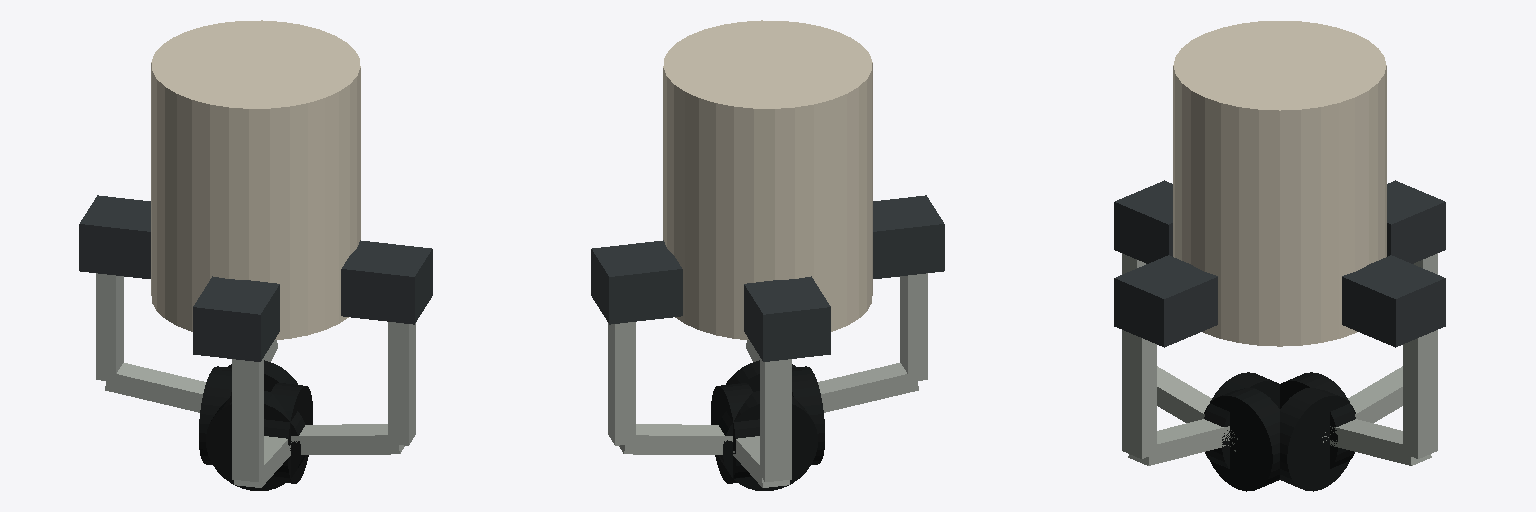
robot.urdf — mist_v2_engineering_candidate:
<?xml version='1.0' encoding='utf-8'?>
<robot name="mist_v2_engineering_candidate">
  <link name="base_link">
    <inertial>
      <origin xyz="0.00332334254 1.464693721e-06 0.03320864763" />
      <mass value="2.497144615750418" />
      <inertia ixx="0.01148689627851007" iyy="0.012851937057630578" izz="0.009283857166790676" ixy="0" ixz="0" iyz="0" />
    </inertial>
    <visual>
      <origin xyz="0 0 0.075" rpy="0 0 0" />
      <geometry>
        <cylinder radius="0.09" length="0.22" />
      </geometry>
      <material name="base_link_material">
        <color rgba="0.83 0.8 0.73 1" />
      </material>
    </visual>
    <collision>
      <origin xyz="0 0 0.075" rpy="0 0 0" />
      <geometry>
        <cylinder radius="0.09" length="0.22" />
      </geometry>
    </collision>
  </link>
  <link name="FL_yaw">
    <inertial>
      <origin xyz="0.0175 0.015 0" />
      <mass value="0.37685924208629096" />
      <inertia ixx="0.0001766527697279489" iyy="0.00019628085525327655" izz="0.00024574363077710224" ixy="0" ixz="0" iyz="0" />
    </inertial>
    <visual>
      <origin xyz="0.0175 0.015 0" rpy="0 0 0" />
      <geometry>
        <box size="0.065 0.06 0.045" />
      </geometry>
      <material name="FL_yaw_material">
        <color rgba="0.25 0.27 0.28 1" />
      </material>
    </visual>
    <collision>
      <origin xyz="0.0175 0.015 0" rpy="0 0 0" />
      <geometry>
        <box size="0.065 0.06 0.045" />
      </geometry>
    </collision>
  </link>
  <joint name="FL_q1_yaw" type="revolute">
    <parent link="base_link" />
    <child link="FL_yaw" />
    <origin xyz="0.07283199846 0.07283199846 0" rpy="0 0 0.7853981634" />
    <axis xyz="0 0 1" />
    <limit lower="-1.7453292519943295" upper="1.7453292519943295" effort="20" velocity="20" />
    <dynamics damping="0" friction="0" />
  </joint>
  <link name="FL_femur">
    <inertial>
      <origin xyz="0 0 -0.06252680735" />
      <mass value="0.2265272545917623" />
      <inertia ixx="0.00033824735222211813" iyy="0.00033183373900069117" izz="2.128216988604884e-05" ixy="0" ixz="0" iyz="0" />
    </inertial>
    <visual>
      <origin xyz="0 0 -0.06975" rpy="0 0 0" />
      <geometry>
        <box size="0.018 0.024 0.1395" />
      </geometry>
      <material name="FL_femur_material">
        <color rgba="0.68 0.7 0.67 1" />
      </material>
    </visual>
    <collision>
      <origin xyz="0 0 -0.06975" rpy="0 0 0" />
      <geometry>
        <box size="0.018 0.024 0.1395" />
      </geometry>
    </collision>
  </link>
  <joint name="FL_q2_hip" type="revolute">
    <parent link="FL_yaw" />
    <child link="FL_femur" />
    <origin xyz="0.035 0.03 0" rpy="0 0 0" />
    <axis xyz="0 -1 0" />
    <limit lower="-0.6981317007977318" upper="2.181661564992912" effort="20" velocity="20" />
    <dynamics damping="0" friction="0" />
  </joint>
  <link name="FL_tibia">
    <inertial>
      <origin xyz="0 0 -0.09551791951" />
      <mass value="0.27304913299150024" />
      <inertia ixx="0.0003976505540132882" iyy="0.00039191652222046676" izz="2.0478684974362515e-05" ixy="0" ixz="0" iyz="0" />
    </inertial>
    <visual>
      <origin xyz="0 0 -0.065" rpy="0 0 0" />
      <geometry>
        <box size="0.018 0.024 0.13" />
      </geometry>
      <material name="FL_tibia_material">
        <color rgba="0.68 0.7 0.67 1" />
      </material>
    </visual>
    <collision>
      <origin xyz="0 0 -0.065" rpy="0 0 0" />
      <geometry>
        <box size="0.018 0.024 0.13" />
      </geometry>
    </collision>
  </link>
  <joint name="FL_q3_knee" type="revolute">
    <parent link="FL_femur" />
    <child link="FL_tibia" />
    <origin xyz="0 0 -0.1395" rpy="0 0 0" />
    <axis xyz="0 -1 0" />
    <limit lower="-2.6179938779914944" upper="-0.2617993877991494" effort="20" velocity="20" />
    <dynamics damping="0" friction="0" />
  </joint>
  <link name="FL_wheel">
    <inertial>
      <origin xyz="0 0 0" />
      <mass value="0.08454368068314383" />
      <inertia ixx="4.223485248127304e-05" iyy="7.635351161696428e-05" izz="4.223485248127304e-05" ixy="0" ixz="0" iyz="0" />
    </inertial>
    <visual>
      <origin xyz="0 0 0" rpy="1.570796327 0 0" />
      <geometry>
        <cylinder radius="0.0425" length="0.024" />
      </geometry>
      <material name="FL_wheel_material">
        <color rgba="0.12 0.13 0.13 1" />
      </material>
    </visual>
    <collision>
      <origin xyz="0 0 0" rpy="1.570796327 0 0" />
      <geometry>
        <cylinder radius="0.0425" length="0.024" />
      </geometry>
    </collision>
  </link>
  <joint name="FL_wheel_drive" type="continuous">
    <parent link="FL_tibia" />
    <child link="FL_wheel" />
    <origin xyz="0 0 -0.13" rpy="0 0 0" />
    <axis xyz="0 -1 0" />
    <dynamics damping="0" friction="0" />
  </joint>
  <link name="FR_yaw">
    <inertial>
      <origin xyz="0.0175 -0.015 0" />
      <mass value="0.37685924208629096" />
      <inertia ixx="0.0001766527697279489" iyy="0.00019628085525327655" izz="0.00024574363077710224" ixy="0" ixz="0" iyz="0" />
    </inertial>
    <visual>
      <origin xyz="0.0175 -0.015 0" rpy="0 0 0" />
      <geometry>
        <box size="0.065 0.06 0.045" />
      </geometry>
      <material name="FR_yaw_material">
        <color rgba="0.25 0.27 0.28 1" />
      </material>
    </visual>
    <collision>
      <origin xyz="0.0175 -0.015 0" rpy="0 0 0" />
      <geometry>
        <box size="0.065 0.06 0.045" />
      </geometry>
    </collision>
  </link>
  <joint name="FR_q1_yaw" type="revolute">
    <parent link="base_link" />
    <child link="FR_yaw" />
    <origin xyz="0.07283199846 -0.07283199846 0" rpy="0 0 -0.7853981634" />
    <axis xyz="0 0 1" />
    <limit lower="-1.7453292519943295" upper="1.7453292519943295" effort="20" velocity="20" />
    <dynamics damping="0" friction="0" />
  </joint>
  <link name="FR_femur">
    <inertial>
      <origin xyz="0 0 -0.06252680735" />
      <mass value="0.2265272545917623" />
      <inertia ixx="0.00033824735222211813" iyy="0.00033183373900069117" izz="2.128216988604884e-05" ixy="0" ixz="0" iyz="0" />
    </inertial>
    <visual>
      <origin xyz="0 0 -0.06975" rpy="0 0 0" />
      <geometry>
        <box size="0.018 0.024 0.1395" />
      </geometry>
      <material name="FR_femur_material">
        <color rgba="0.68 0.7 0.67 1" />
      </material>
    </visual>
    <collision>
      <origin xyz="0 0 -0.06975" rpy="0 0 0" />
      <geometry>
        <box size="0.018 0.024 0.1395" />
      </geometry>
    </collision>
  </link>
  <joint name="FR_q2_hip" type="revolute">
    <parent link="FR_yaw" />
    <child link="FR_femur" />
    <origin xyz="0.035 -0.03 0" rpy="0 0 0" />
    <axis xyz="0 -1 0" />
    <limit lower="-0.6981317007977318" upper="2.181661564992912" effort="20" velocity="20" />
    <dynamics damping="0" friction="0" />
  </joint>
  <link name="FR_tibia">
    <inertial>
      <origin xyz="0 0 -0.09551791951" />
      <mass value="0.27304913299150024" />
      <inertia ixx="0.0003976505540132882" iyy="0.00039191652222046676" izz="2.0478684974362515e-05" ixy="0" ixz="0" iyz="0" />
    </inertial>
    <visual>
      <origin xyz="0 0 -0.065" rpy="0 0 0" />
      <geometry>
        <box size="0.018 0.024 0.13" />
      </geometry>
      <material name="FR_tibia_material">
        <color rgba="0.68 0.7 0.67 1" />
      </material>
    </visual>
    <collision>
      <origin xyz="0 0 -0.065" rpy="0 0 0" />
      <geometry>
        <box size="0.018 0.024 0.13" />
      </geometry>
    </collision>
  </link>
  <joint name="FR_q3_knee" type="revolute">
    <parent link="FR_femur" />
    <child link="FR_tibia" />
    <origin xyz="0 0 -0.1395" rpy="0 0 0" />
    <axis xyz="0 -1 0" />
    <limit lower="-2.6179938779914944" upper="-0.2617993877991494" effort="20" velocity="20" />
    <dynamics damping="0" friction="0" />
  </joint>
  <link name="FR_wheel">
    <inertial>
      <origin xyz="0 0 0" />
      <mass value="0.08454368068314383" />
      <inertia ixx="4.223485248127304e-05" iyy="7.635351161696428e-05" izz="4.223485248127304e-05" ixy="0" ixz="0" iyz="0" />
    </inertial>
    <visual>
      <origin xyz="0 0 0" rpy="1.570796327 0 0" />
      <geometry>
        <cylinder radius="0.0425" length="0.024" />
      </geometry>
      <material name="FR_wheel_material">
        <color rgba="0.12 0.13 0.13 1" />
      </material>
    </visual>
    <collision>
      <origin xyz="0 0 0" rpy="1.570796327 0 0" />
      <geometry>
        <cylinder radius="0.0425" length="0.024" />
      </geometry>
    </collision>
  </link>
  <joint name="FR_wheel_drive" type="continuous">
    <parent link="FR_tibia" />
    <child link="FR_wheel" />
    <origin xyz="0 0 -0.13" rpy="0 0 0" />
    <axis xyz="0 -1 0" />
    <dynamics damping="0" friction="0" />
  </joint>
  <link name="RL_yaw">
    <inertial>
      <origin xyz="0.0175 -0.015 0" />
      <mass value="0.37685924208629096" />
      <inertia ixx="0.0001766527697279489" iyy="0.00019628085525327655" izz="0.00024574363077710224" ixy="0" ixz="0" iyz="0" />
    </inertial>
    <visual>
      <origin xyz="0.0175 -0.015 0" rpy="0 0 0" />
      <geometry>
        <box size="0.065 0.06 0.045" />
      </geometry>
      <material name="RL_yaw_material">
        <color rgba="0.25 0.27 0.28 1" />
      </material>
    </visual>
    <collision>
      <origin xyz="0.0175 -0.015 0" rpy="0 0 0" />
      <geometry>
        <box size="0.065 0.06 0.045" />
      </geometry>
    </collision>
  </link>
  <joint name="RL_q1_yaw" type="revolute">
    <parent link="base_link" />
    <child link="RL_yaw" />
    <origin xyz="-0.07283199846 0.07283199846 0" rpy="0 0 2.35619449" />
    <axis xyz="0 0 1" />
    <limit lower="-1.7453292519943295" upper="1.7453292519943295" effort="20" velocity="20" />
    <dynamics damping="0" friction="0" />
  </joint>
  <link name="RL_femur">
    <inertial>
      <origin xyz="0 0 -0.06252680735" />
      <mass value="0.2265272545917623" />
      <inertia ixx="0.00033824735222211813" iyy="0.00033183373900069117" izz="2.128216988604884e-05" ixy="0" ixz="0" iyz="0" />
    </inertial>
    <visual>
      <origin xyz="0 0 -0.06975" rpy="0 0 0" />
      <geometry>
        <box size="0.018 0.024 0.1395" />
      </geometry>
      <material name="RL_femur_material">
        <color rgba="0.68 0.7 0.67 1" />
      </material>
    </visual>
    <collision>
      <origin xyz="0 0 -0.06975" rpy="0 0 0" />
      <geometry>
        <box size="0.018 0.024 0.1395" />
      </geometry>
    </collision>
  </link>
  <joint name="RL_q2_hip" type="revolute">
    <parent link="RL_yaw" />
    <child link="RL_femur" />
    <origin xyz="0.035 -0.03 0" rpy="0 0 0" />
    <axis xyz="0 -1 0" />
    <limit lower="-0.6981317007977318" upper="2.181661564992912" effort="20" velocity="20" />
    <dynamics damping="0" friction="0" />
  </joint>
  <link name="RL_tibia">
    <inertial>
      <origin xyz="0 0 -0.09551791951" />
      <mass value="0.27304913299150024" />
      <inertia ixx="0.0003976505540132882" iyy="0.00039191652222046676" izz="2.0478684974362515e-05" ixy="0" ixz="0" iyz="0" />
    </inertial>
    <visual>
      <origin xyz="0 0 -0.065" rpy="0 0 0" />
      <geometry>
        <box size="0.018 0.024 0.13" />
      </geometry>
      <material name="RL_tibia_material">
        <color rgba="0.68 0.7 0.67 1" />
      </material>
    </visual>
    <collision>
      <origin xyz="0 0 -0.065" rpy="0 0 0" />
      <geometry>
        <box size="0.018 0.024 0.13" />
      </geometry>
    </collision>
  </link>
  <joint name="RL_q3_knee" type="revolute">
    <parent link="RL_femur" />
    <child link="RL_tibia" />
    <origin xyz="0 0 -0.1395" rpy="0 0 0" />
    <axis xyz="0 -1 0" />
    <limit lower="-2.6179938779914944" upper="-0.2617993877991494" effort="20" velocity="20" />
    <dynamics damping="0" friction="0" />
  </joint>
  <link name="RL_wheel">
    <inertial>
      <origin xyz="0 0 0" />
      <mass value="0.08454368068314383" />
      <inertia ixx="4.223485248127304e-05" iyy="7.635351161696428e-05" izz="4.223485248127304e-05" ixy="0" ixz="0" iyz="0" />
    </inertial>
    <visual>
      <origin xyz="0 0 0" rpy="1.570796327 0 0" />
      <geometry>
        <cylinder radius="0.0425" length="0.024" />
      </geometry>
      <material name="RL_wheel_material">
        <color rgba="0.12 0.13 0.13 1" />
      </material>
    </visual>
    <collision>
      <origin xyz="0 0 0" rpy="1.570796327 0 0" />
      <geometry>
        <cylinder radius="0.0425" length="0.024" />
      </geometry>
    </collision>
  </link>
  <joint name="RL_wheel_drive" type="continuous">
    <parent link="RL_tibia" />
    <child link="RL_wheel" />
    <origin xyz="0 0 -0.13" rpy="0 0 0" />
    <axis xyz="0 -1 0" />
    <dynamics damping="0" friction="0" />
  </joint>
  <link name="RR_yaw">
    <inertial>
      <origin xyz="0.0175 0.015 0" />
      <mass value="0.37685924208629096" />
      <inertia ixx="0.0001766527697279489" iyy="0.00019628085525327655" izz="0.00024574363077710224" ixy="0" ixz="0" iyz="0" />
    </inertial>
    <visual>
      <origin xyz="0.0175 0.015 0" rpy="0 0 0" />
      <geometry>
        <box size="0.065 0.06 0.045" />
      </geometry>
      <material name="RR_yaw_material">
        <color rgba="0.25 0.27 0.28 1" />
      </material>
    </visual>
    <collision>
      <origin xyz="0.0175 0.015 0" rpy="0 0 0" />
      <geometry>
        <box size="0.065 0.06 0.045" />
      </geometry>
    </collision>
  </link>
  <joint name="RR_q1_yaw" type="revolute">
    <parent link="base_link" />
    <child link="RR_yaw" />
    <origin xyz="-0.07283199846 -0.07283199846 0" rpy="0 0 -2.35619449" />
    <axis xyz="0 0 1" />
    <limit lower="-1.7453292519943295" upper="1.7453292519943295" effort="20" velocity="20" />
    <dynamics damping="0" friction="0" />
  </joint>
  <link name="RR_femur">
    <inertial>
      <origin xyz="0 0 -0.06252680735" />
      <mass value="0.2265272545917623" />
      <inertia ixx="0.00033824735222211813" iyy="0.00033183373900069117" izz="2.128216988604884e-05" ixy="0" ixz="0" iyz="0" />
    </inertial>
    <visual>
      <origin xyz="0 0 -0.06975" rpy="0 0 0" />
      <geometry>
        <box size="0.018 0.024 0.1395" />
      </geometry>
      <material name="RR_femur_material">
        <color rgba="0.68 0.7 0.67 1" />
      </material>
    </visual>
    <collision>
      <origin xyz="0 0 -0.06975" rpy="0 0 0" />
      <geometry>
        <box size="0.018 0.024 0.1395" />
      </geometry>
    </collision>
  </link>
  <joint name="RR_q2_hip" type="revolute">
    <parent link="RR_yaw" />
    <child link="RR_femur" />
    <origin xyz="0.035 0.03 0" rpy="0 0 0" />
    <axis xyz="0 -1 0" />
    <limit lower="-0.6981317007977318" upper="2.181661564992912" effort="20" velocity="20" />
    <dynamics damping="0" friction="0" />
  </joint>
  <link name="RR_tibia">
    <inertial>
      <origin xyz="0 0 -0.09551791951" />
      <mass value="0.27304913299150024" />
      <inertia ixx="0.0003976505540132882" iyy="0.00039191652222046676" izz="2.0478684974362515e-05" ixy="0" ixz="0" iyz="0" />
    </inertial>
    <visual>
      <origin xyz="0 0 -0.065" rpy="0 0 0" />
      <geometry>
        <box size="0.018 0.024 0.13" />
      </geometry>
      <material name="RR_tibia_material">
        <color rgba="0.68 0.7 0.67 1" />
      </material>
    </visual>
    <collision>
      <origin xyz="0 0 -0.065" rpy="0 0 0" />
      <geometry>
        <box size="0.018 0.024 0.13" />
      </geometry>
    </collision>
  </link>
  <joint name="RR_q3_knee" type="revolute">
    <parent link="RR_femur" />
    <child link="RR_tibia" />
    <origin xyz="0 0 -0.1395" rpy="0 0 0" />
    <axis xyz="0 -1 0" />
    <limit lower="-2.6179938779914944" upper="-0.2617993877991494" effort="20" velocity="20" />
    <dynamics damping="0" friction="0" />
  </joint>
  <link name="RR_wheel">
    <inertial>
      <origin xyz="0 0 0" />
      <mass value="0.08454368068314383" />
      <inertia ixx="4.223485248127304e-05" iyy="7.635351161696428e-05" izz="4.223485248127304e-05" ixy="0" ixz="0" iyz="0" />
    </inertial>
    <visual>
      <origin xyz="0 0 0" rpy="1.570796327 0 0" />
      <geometry>
        <cylinder radius="0.0425" length="0.024" />
      </geometry>
      <material name="RR_wheel_material">
        <color rgba="0.12 0.13 0.13 1" />
      </material>
    </visual>
    <collision>
      <origin xyz="0 0 0" rpy="1.570796327 0 0" />
      <geometry>
        <cylinder radius="0.0425" length="0.024" />
      </geometry>
    </collision>
  </link>
  <joint name="RR_wheel_drive" type="continuous">
    <parent link="RR_tibia" />
    <child link="RR_wheel" />
    <origin xyz="0 0 -0.13" rpy="0 0 0" />
    <axis xyz="0 -1 0" />
    <dynamics damping="0" friction="0" />
  </joint>
</robot>

--- Render facts (derived) ---
The picture shows the robot from 3 angles, left to right: view 1: azimuth 30°, elevation 25°; view 2: azimuth 150°, elevation 25°; view 3: azimuth 270°, elevation 25°; orthographic projection.
Model mist_v2_engineering_candidate with 17 links and 16 joints (12 revolute, 4 continuous), rooted at base_link, posed all joints at 0 but 4 set to mid-range because 0 is outside their limits (FL_q3_knee = -1.44, FR_q3_knee = -1.44, RL_q3_knee = -1.44, RR_q3_knee = -1.44).
Visible links, largest first — view 1: base_link, FR_yaw, RR_yaw, RL_yaw, RR_femur, FR_femur, FR_wheel, FR_tibia, RL_tibia, RL_femur, RR_wheel, FL_wheel (+2 smaller); view 2: base_link, FL_yaw, RL_yaw, RR_yaw, RL_femur, FL_femur, FL_wheel, FL_tibia, RR_tibia, RR_femur, RL_wheel, FR_wheel (+2 smaller); view 3: base_link, FL_yaw, FR_yaw, RL_wheel, RR_wheel, FR_femur, FL_femur, RL_yaw, RR_yaw, FL_tibia, FR_tibia, FL_wheel (+3 smaller).
Link boxes in pixels (x1,y1,x2,y2): base_link: (151,20,360,339); FR_yaw: (341,240,432,324); RR_yaw: (193,276,279,361); RL_yaw: (79,195,150,278); RR_femur: (232,358,263,481); FR_femur: (388,322,415,445); FR_wheel: (206,391,305,490); FR_tibia: (291,424,404,454); RL_tibia: (105,363,205,412); RL_femur: (96,273,123,381); RR_wheel: (264,383,312,483); FL_wheel: (199,366,231,464); base_link: (663,20,872,339); FL_yaw: (591,240,682,324); RL_yaw: (744,276,830,361); RR_yaw: (873,195,944,278); RL_femur: (760,358,791,481); FL_femur: (608,322,635,445); FL_wheel: (718,391,817,490); FL_tibia: (619,424,732,454); RR_tibia: (818,363,918,412); RR_femur: (900,273,927,381); RL_wheel: (711,383,759,483); FR_wheel: (792,366,824,464); base_link: (1173,21,1386,346); FL_yaw: (1342,255,1445,347); FR_yaw: (1114,255,1217,347); RL_wheel: (1280,388,1355,491); RR_wheel: (1204,388,1279,491); FR_femur: (1122,330,1156,458); FL_femur: (1403,330,1437,458); RL_yaw: (1387,180,1445,263); RR_yaw: (1114,180,1172,263); FL_tibia: (1330,419,1431,465); FR_tibia: (1128,419,1229,465); FL_wheel: (1280,372,1355,468).
Size in the robot's own frame: 0.2376 by 0.28 by 0.3839 metres.
Geometry: primitives only (box / cylinder / sphere), no mesh files.
